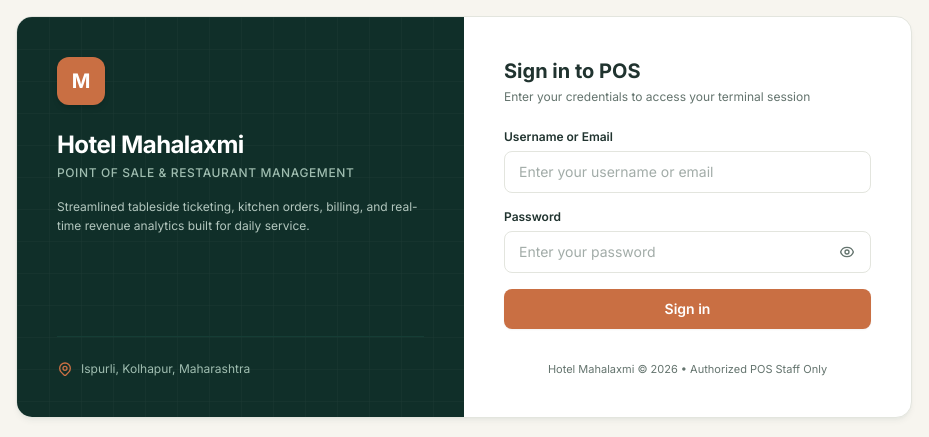
Scenario: LoginPage › shows loading state while submitting
Step 1. Type "test" into the field labelled "Username or Email" → coordinates (688, 172), box [504, 151, 871, 193]
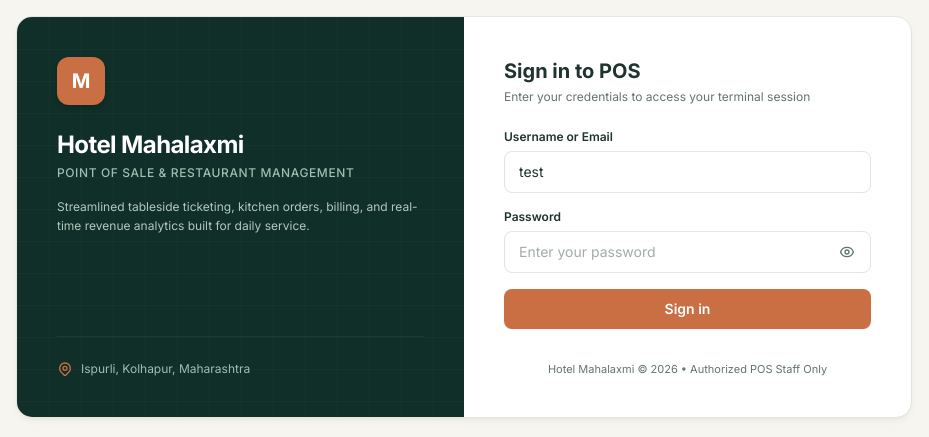
Step 2. Type "password" into the password field with placeholder "Enter your password" → coordinates (688, 252), box [504, 231, 871, 273]
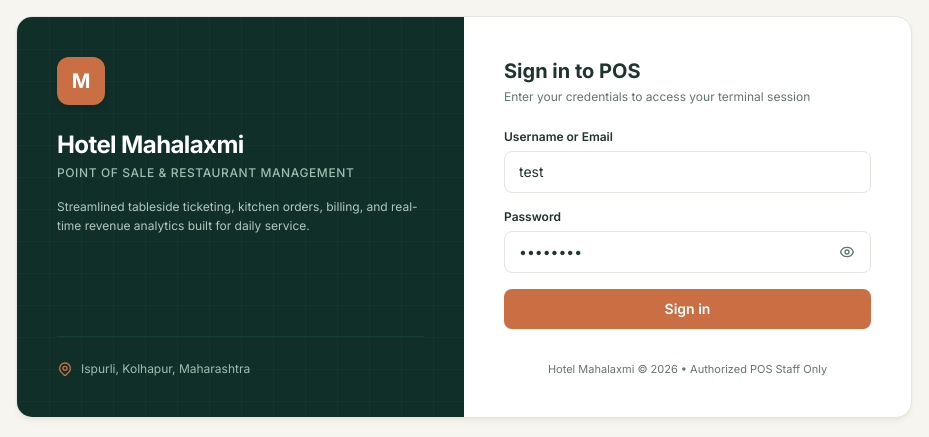
Step 3. Click the button "Sign in" → coordinates (688, 309), box [504, 289, 871, 329]
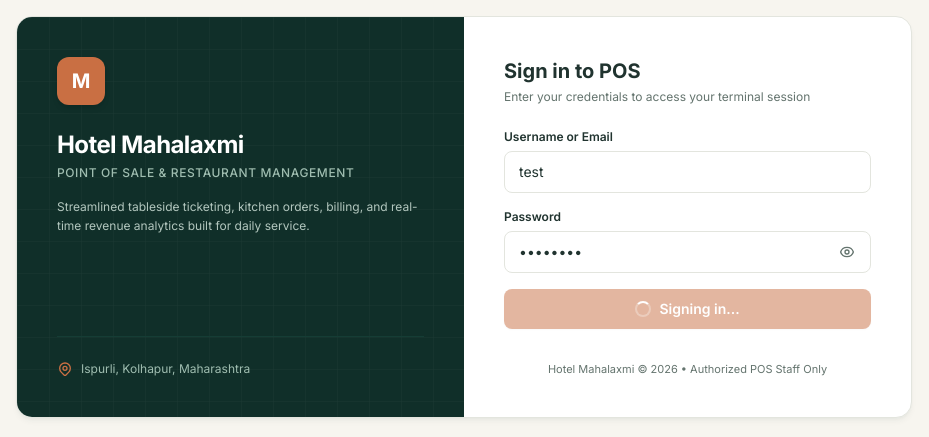
Result: the text "Signing in..." is shown at [659, 299, 740, 319]
